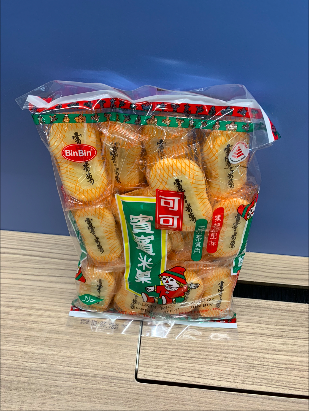Crackers_100-199g: (71, 114, 227, 313)
